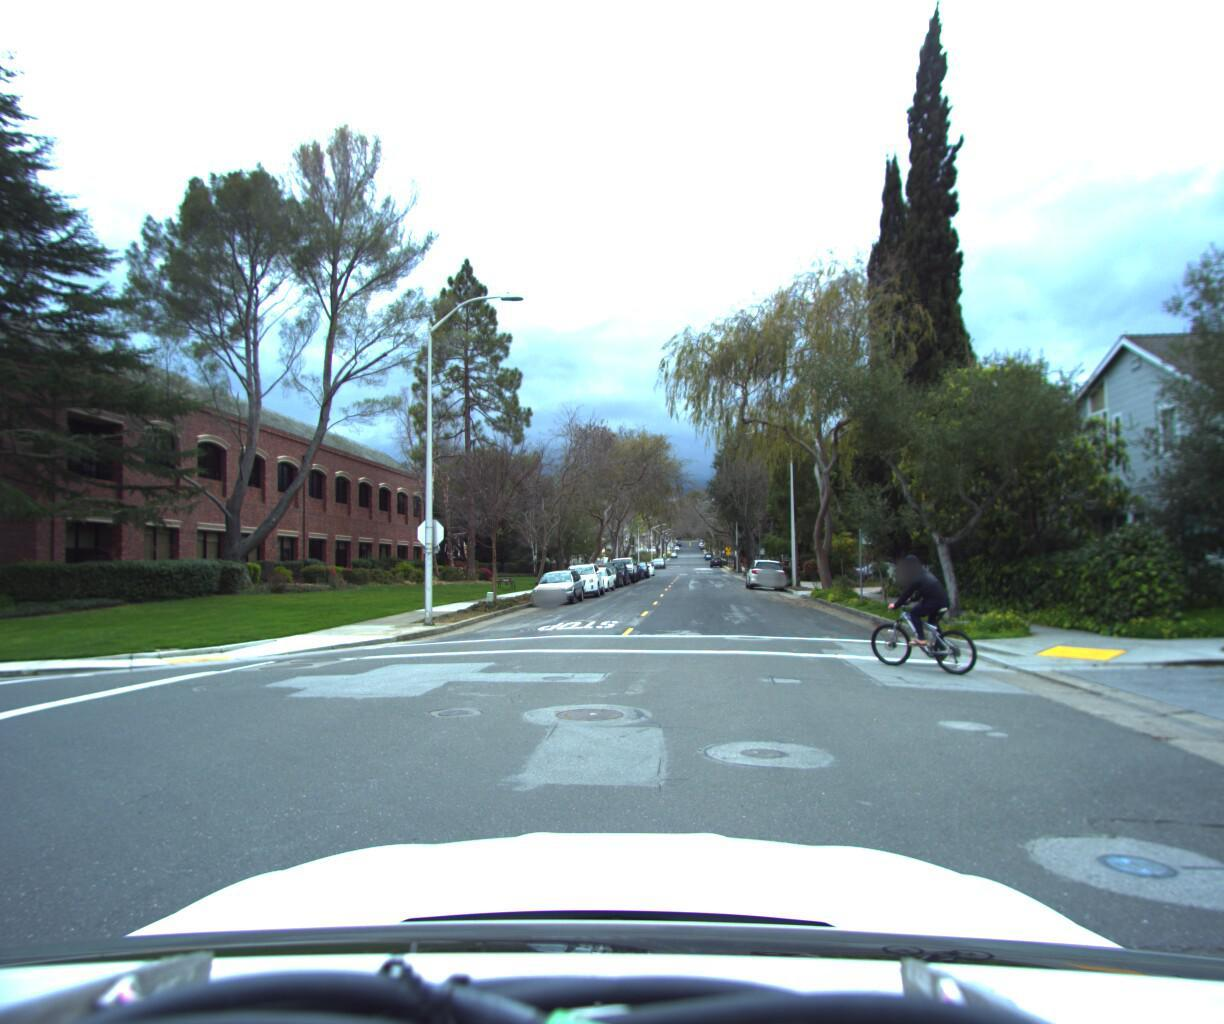bicycle: (848, 536, 999, 671)
car: (529, 567, 585, 607), (556, 559, 607, 597), (846, 557, 917, 581), (743, 553, 786, 589), (574, 564, 617, 593), (604, 555, 639, 583), (588, 564, 626, 588)
